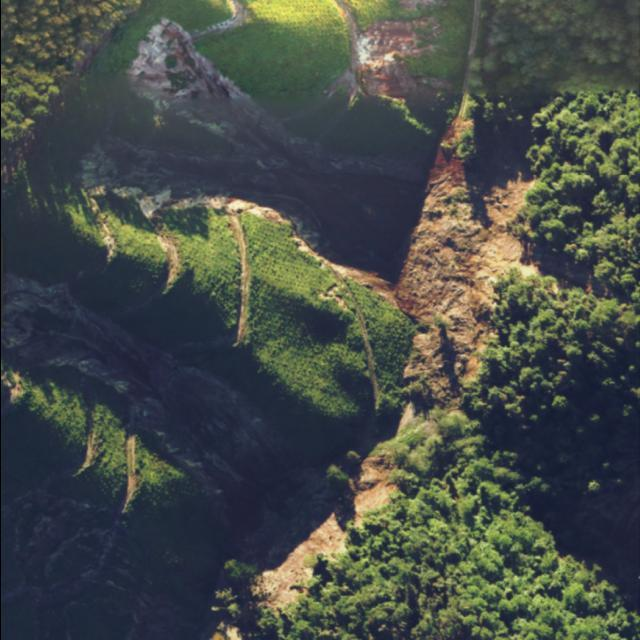landslide: (72, 0, 536, 434), (195, 385, 394, 606)
